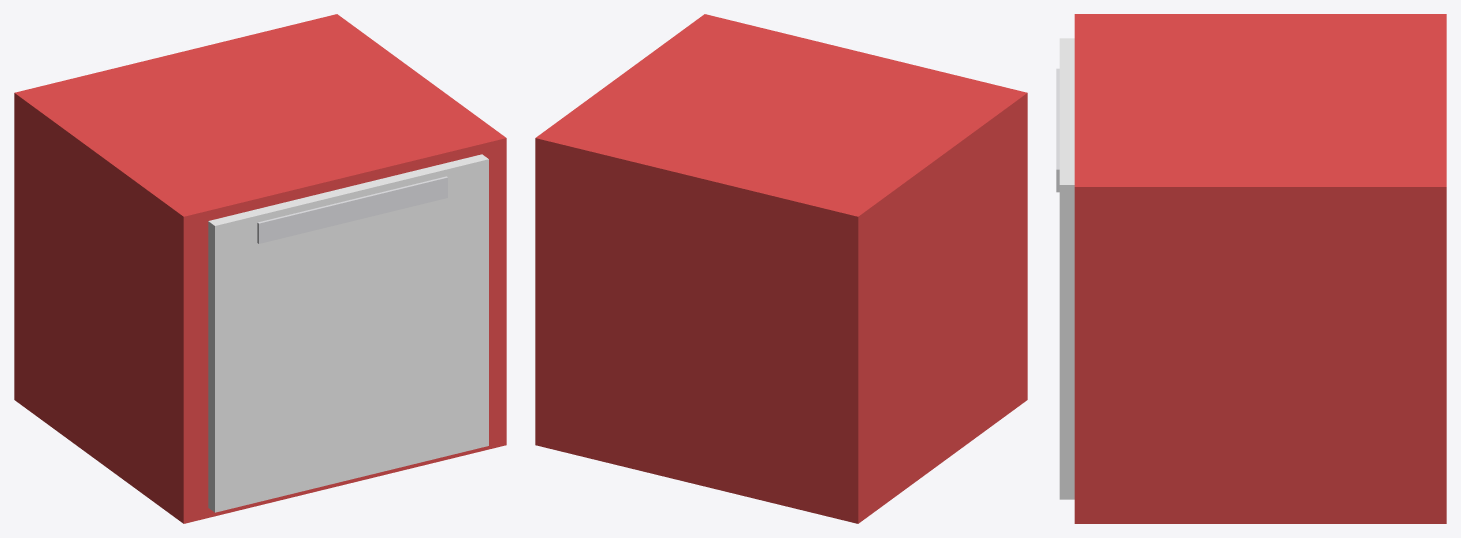
The model's file is MiniFridge_v2_cube_white.fbx.
3 renders of one model, left to right at view 1: azimuth 30°, elevation 25°; view 2: azimuth 150°, elevation 25°; view 3: azimuth 270°, elevation 25°, orthographic. The views are drawn at different scales.
Visible parts, largest first — view 1: HandleGroove; view 2: HandleGroove; view 3: HandleGroove.
Boxes of the visible parts, x1,y1,x2,y2 form: HandleGroove: [14, 14, 506, 523]; HandleGroove: [535, 14, 1027, 523]; HandleGroove: [1056, 14, 1446, 523].
Bounding box in the file's own units: 0.495 × 0.45 × 0.472.
